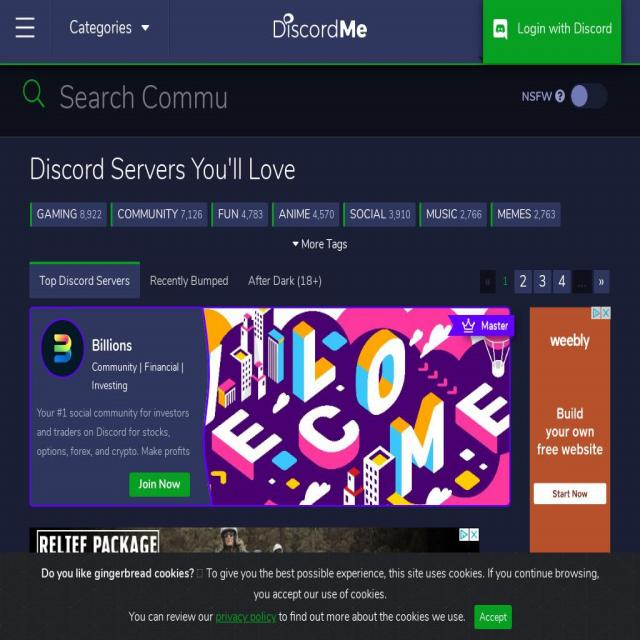navigation-blocks: (21, 304, 519, 514)
navigation-links: (25, 195, 607, 297)
options: (66, 10, 155, 43), (10, 8, 45, 45)
search: (18, 80, 228, 117)
